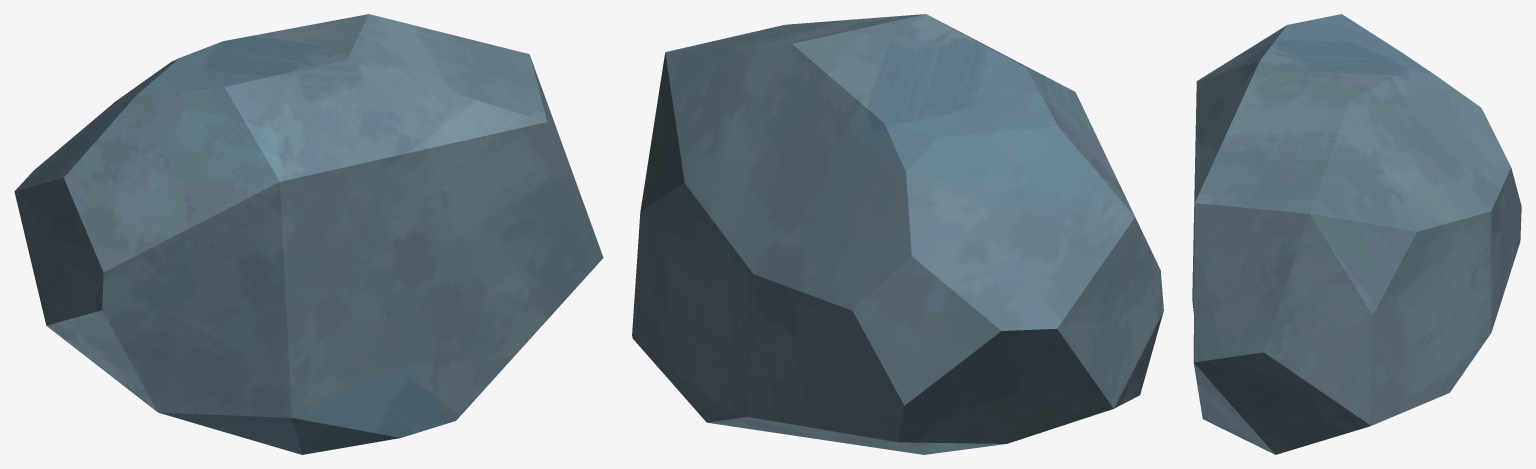
Rendered from rock11.fbx.
The picture shows the model from 3 angles, left to right: view 1: azimuth 30°, elevation 25°; view 2: azimuth 150°, elevation 25°; view 3: azimuth 270°, elevation 25°; orthographic projection. The views are drawn at different scales.
Parts seen in each view (by area): view 1: rock11; view 2: rock11; view 3: rock11.
Boxes of the visible parts, x1,y1,x2,y2 form: rock11: (14,14,603,454); rock11: (632,14,1163,454); rock11: (1192,14,1521,454).
Size of the model in its own units: 29307 by 21929 by 19458.
